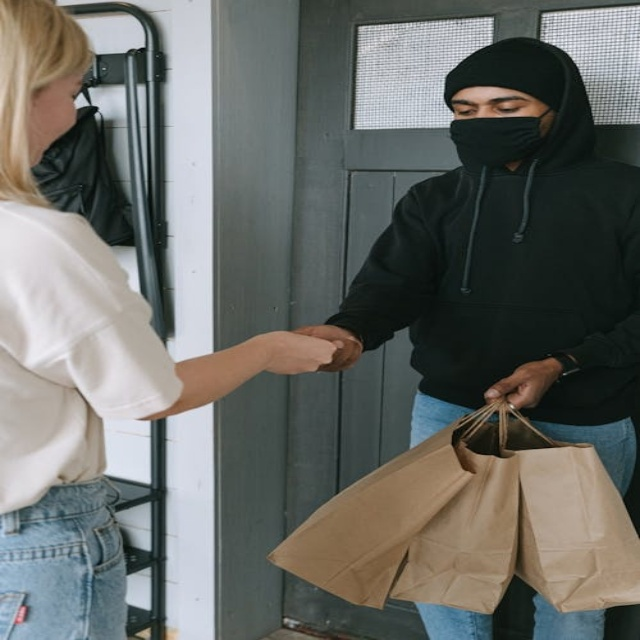Mascara: (449, 112, 554, 167)
Sin_gafas: (448, 94, 534, 116)
Sin_guantes: (476, 358, 562, 417), (288, 324, 364, 372)
